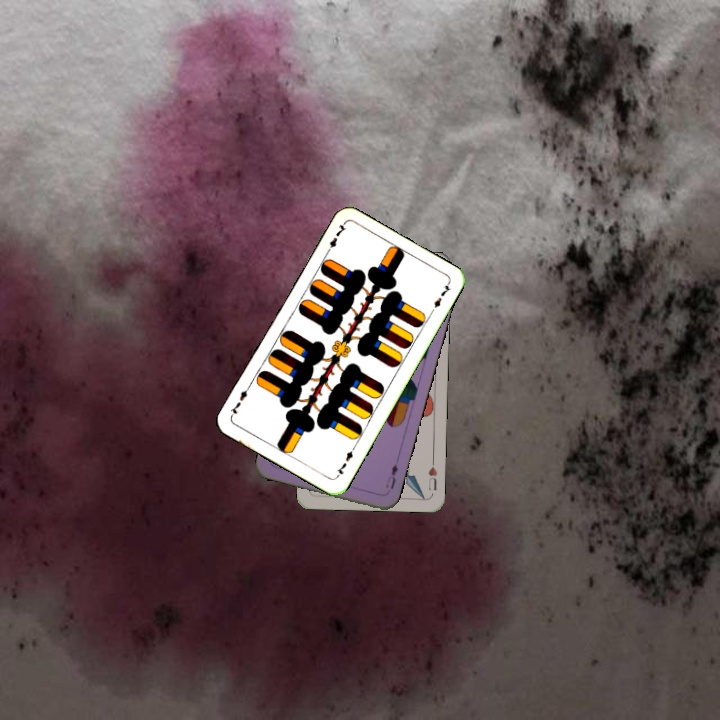E7: (322, 219, 349, 257), (332, 443, 358, 480)
EU: (381, 460, 400, 491)
HU: (424, 456, 440, 493)
